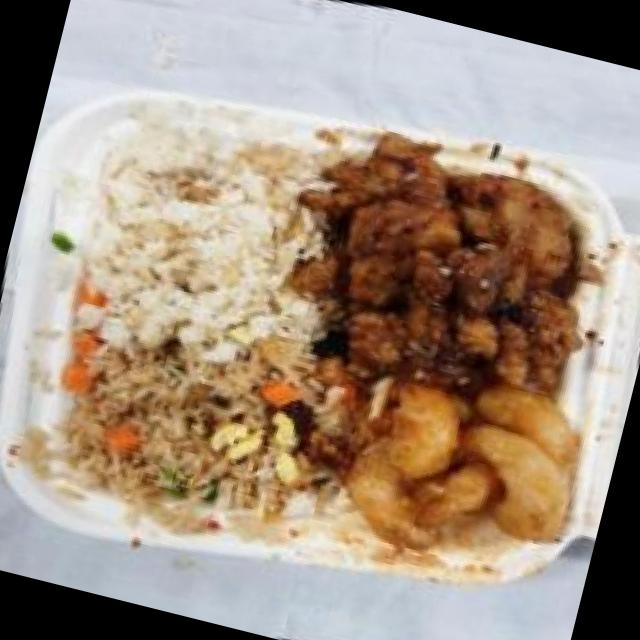Fried Rice: (0, 280, 350, 576)
Honey Walnut Shrimp: (300, 330, 610, 606)
The Original Orange Chicken: (257, 94, 640, 444)
White Steamed Rice: (22, 72, 357, 384)
